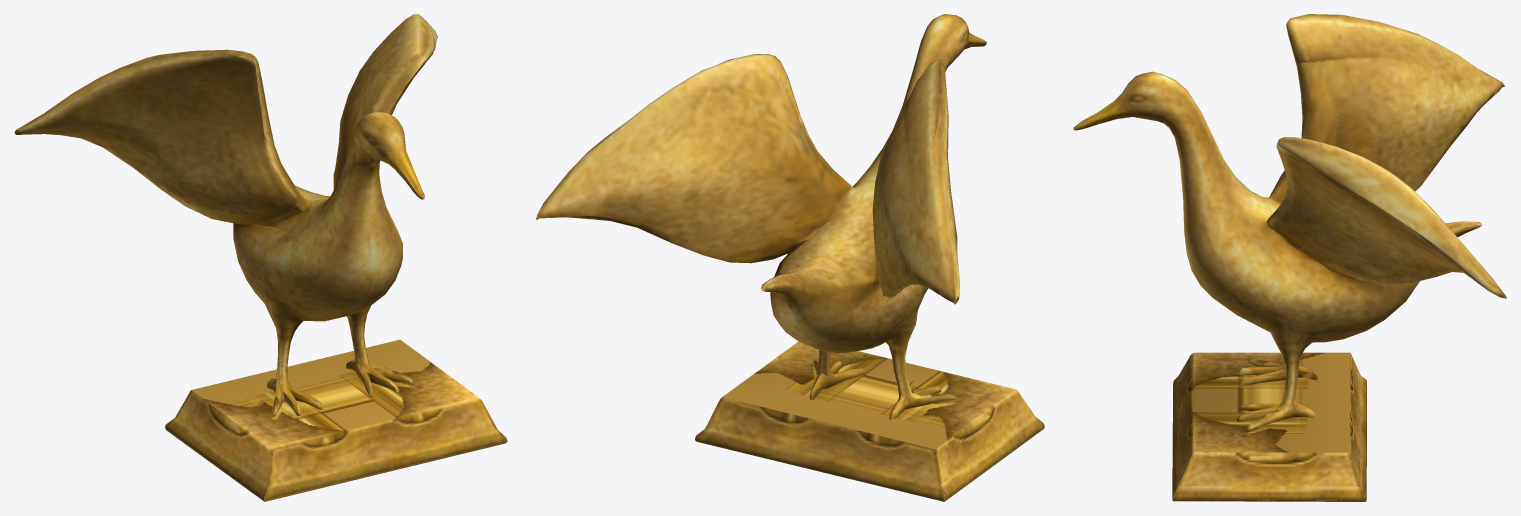
Rendered from item_mm9_10369.glb.
The picture shows the model from 3 angles, left to right: view 1: azimuth 30°, elevation 25°; view 2: azimuth 150°, elevation 25°; view 3: azimuth 270°, elevation 25°; orthographic projection. The views are drawn at different scales.
Visible parts, largest first — view 1: d10369; view 2: d10369; view 3: d10369.
Part boxes in pixels (x1,y1,x2,y2): d10369: [14, 14, 507, 501]; d10369: [536, 14, 1044, 501]; d10369: [1073, 14, 1506, 501].
Size of the model in its own units: 1 by 0.9233 by 0.9365.
Materials: 1 (1 with a texture image).
